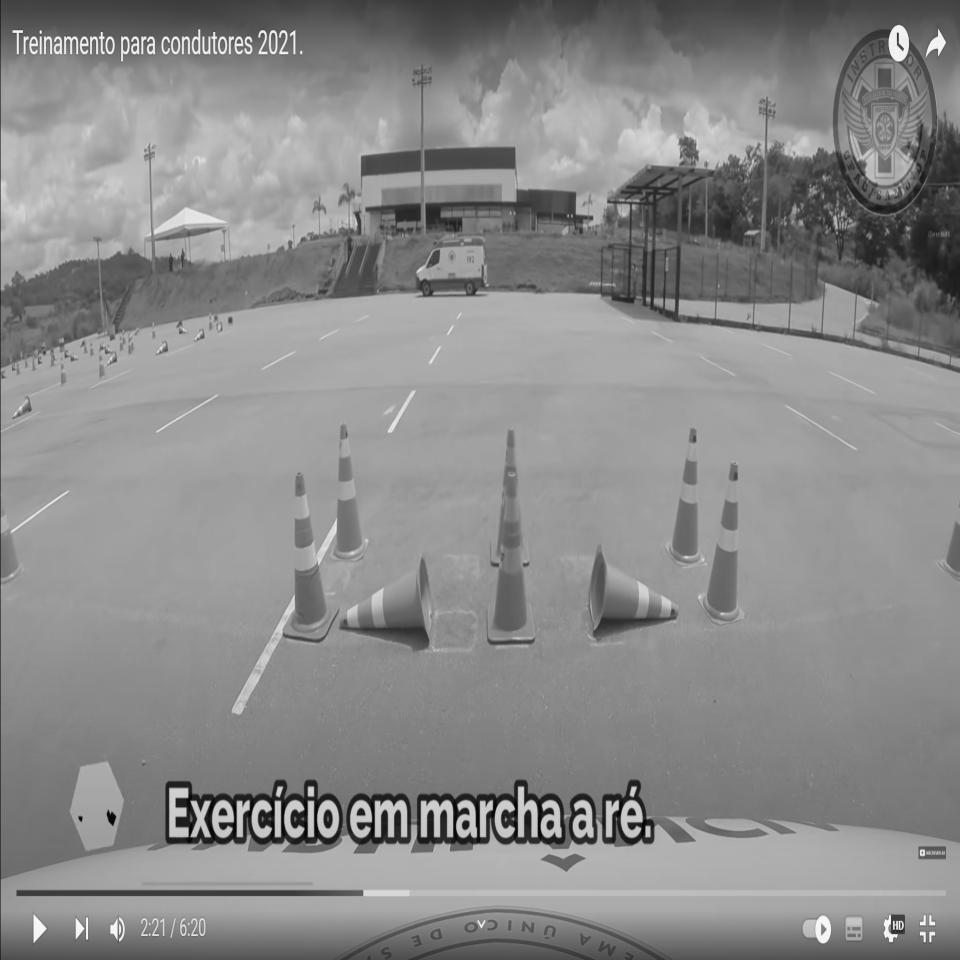ambulancia: (416, 230, 490, 298)
